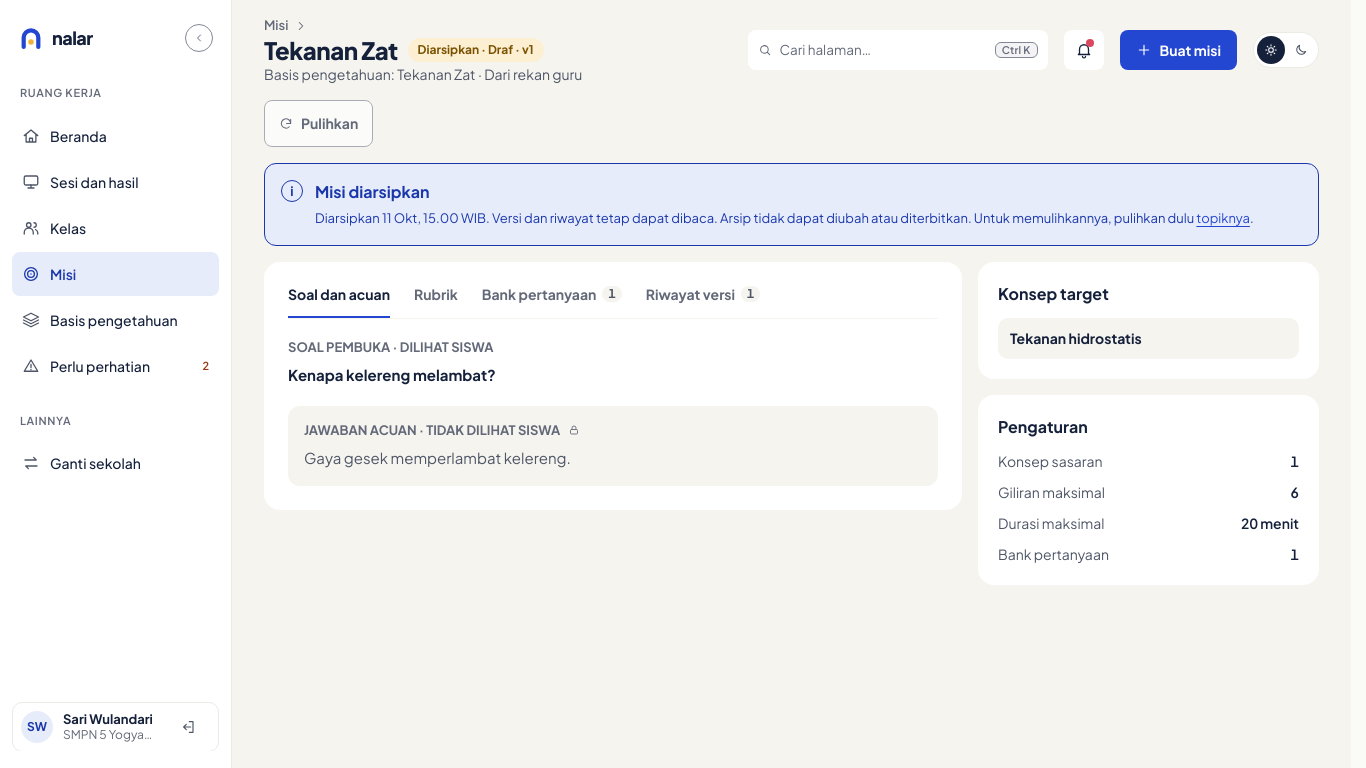
Test: signed-in teacher pages › resolves an old mission link through archives and keeps versions read-only
Expected: the text "Misi diarsipkan" is shown, x1=315 y1=181 x2=430 y2=202
Expected: the text "Kenapa kelereng melambat?" is shown, x1=288 y1=365 x2=496 y2=384
Step 1. Click the tab "Riwayat versi 1" → point(703, 294), box x1=646 y1=270 x2=760 y2=318
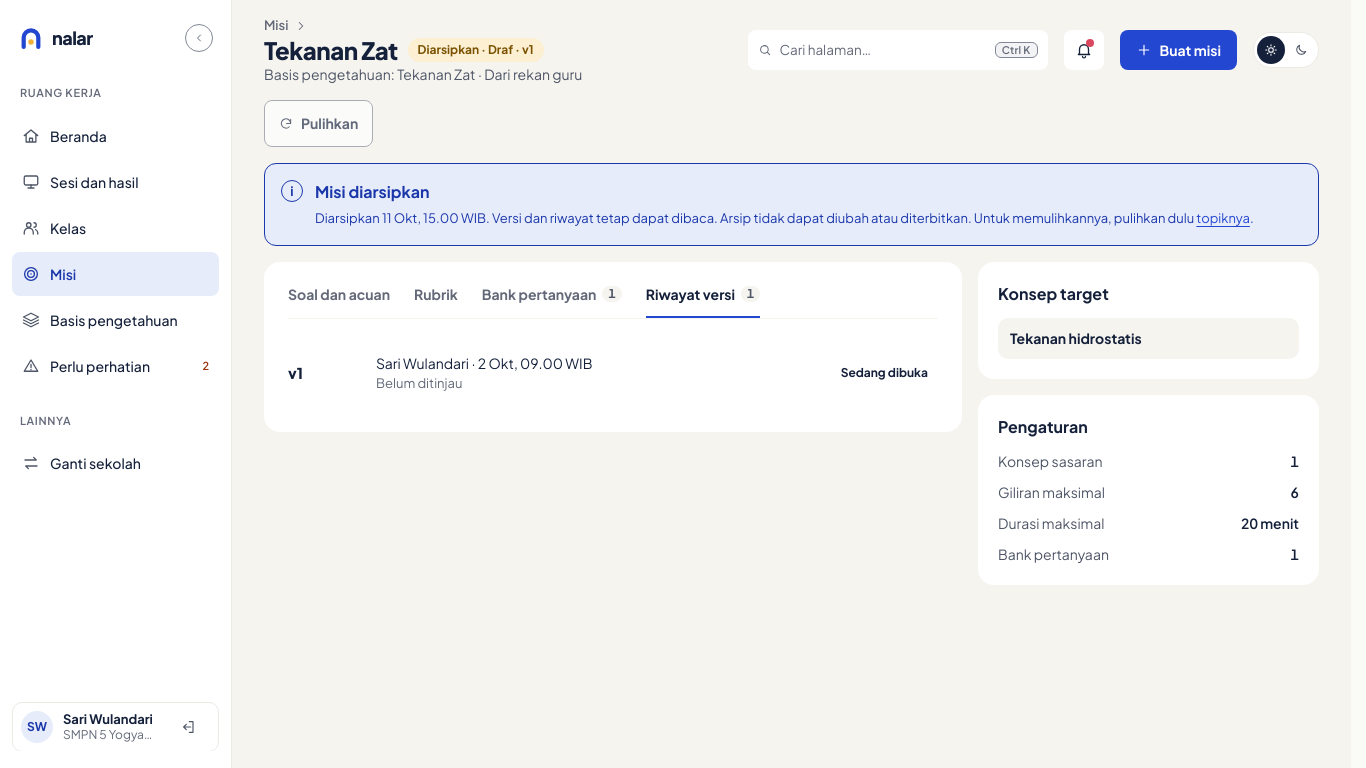
Expected: the text "v1" is shown, x1=288 y1=363 x2=303 y2=382
